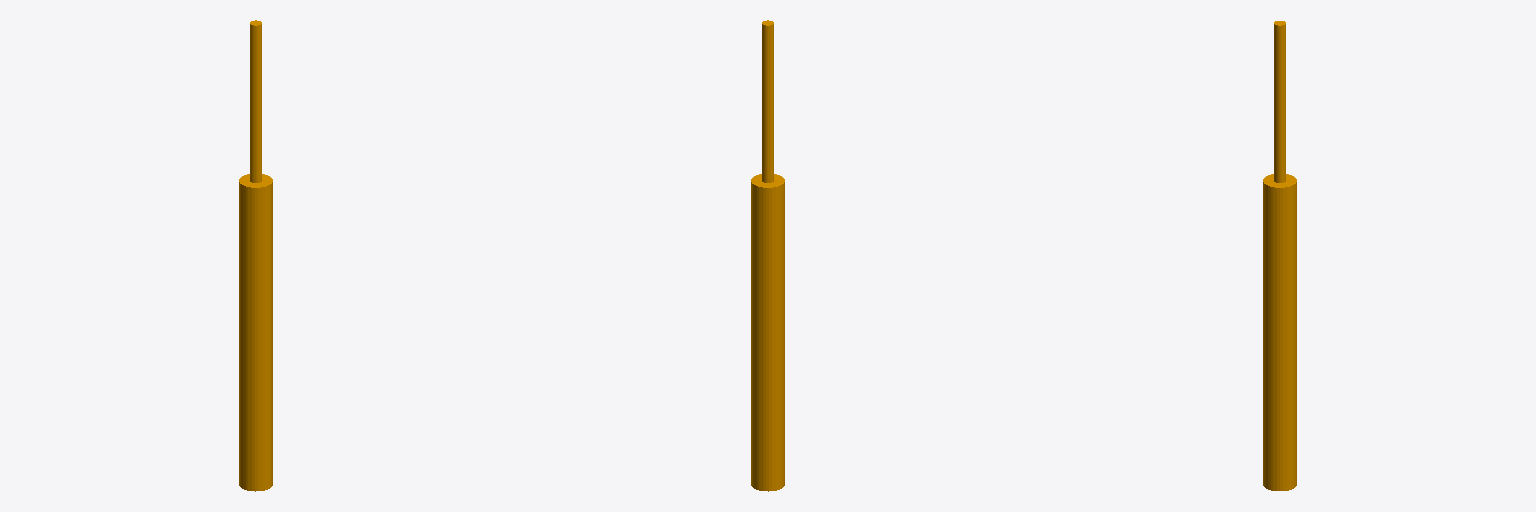
URDF robot description (tiny_screwdriver):
<?xml version="1.0"?>
<robot
  name="tiny_screwdriver">
  <link name="tiny_screwdriver_body">
    <visual>
      <geometry>
        <!--<box size="0.019 0.019 0.01285"/>-->
        <cylinder length="0.108" radius="0.0055" />
      </geometry>
      <origin xyz="0 0 0"/>
    </visual>
    <visual>
      <geometry>
        <!--<box size="0.019 0.019 0.01285"/>-->
        <cylinder length="0.06" radius="0.002" />
      </geometry>
      <origin xyz="0 0 0.08"/>
    </visual>
    <collision>
      <geometry>
        <!--<box size="0.019 0.019 0.01285"/>-->
        <cylinder length="0.108" radius="0.0055" />
      </geometry>
      <origin xyz="0 0 0"/>
    </collision>
    <collision>
      <geometry>
        <!--<box size="0.019 0.019 0.01285"/>-->
        <cylinder length="0.06" radius="0.002" />
      </geometry>
      <origin xyz="0 0 0.08"/>
    </collision>
    <inertial>
      <mass value="0.1"/>
      <inertia ixx="0.01" ixy="0.0" ixz="0.0" iyy="0.01" iyz="0.0" izz="0.01"/>
      <origin xyz="0 0 0"/>
    </inertial>
  </link>
</robot>

--- What the picture shows (computed from the rendered views, not written in the file) ---
3 views of the same robot in one strip: view 1: azimuth 30°, elevation 25°; view 2: azimuth 150°, elevation 25°; view 3: azimuth 270°, elevation 25° (orthographic).
Robot: tiny_screwdriver — 1 links, 0 joints (none); root link tiny_screwdriver_body; default pose: all joints at 0.
Links seen in each view (by area): view 1: tiny_screwdriver_body; view 2: tiny_screwdriver_body; view 3: tiny_screwdriver_body.
Boxes of the visible links, x1,y1,x2,y2 form: tiny_screwdriver_body: [239, 20, 272, 491]; tiny_screwdriver_body: [751, 20, 784, 491]; tiny_screwdriver_body: [1263, 21, 1296, 490].
Bounding box of the posed robot: 0.011 × 0.011 × 0.164 m (x, y, z).
Geometry: primitives only (box / cylinder / sphere), no mesh files.